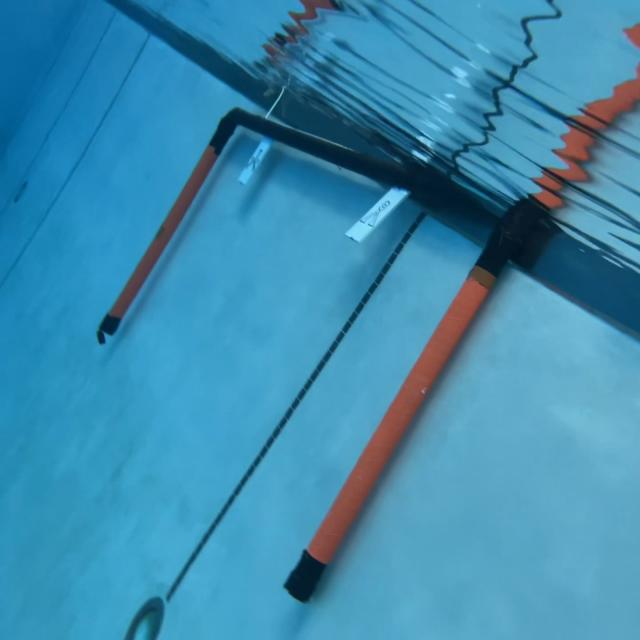abydos: (243, 148, 264, 172)
earth: (358, 200, 392, 228)
gate: (96, 106, 538, 605)
